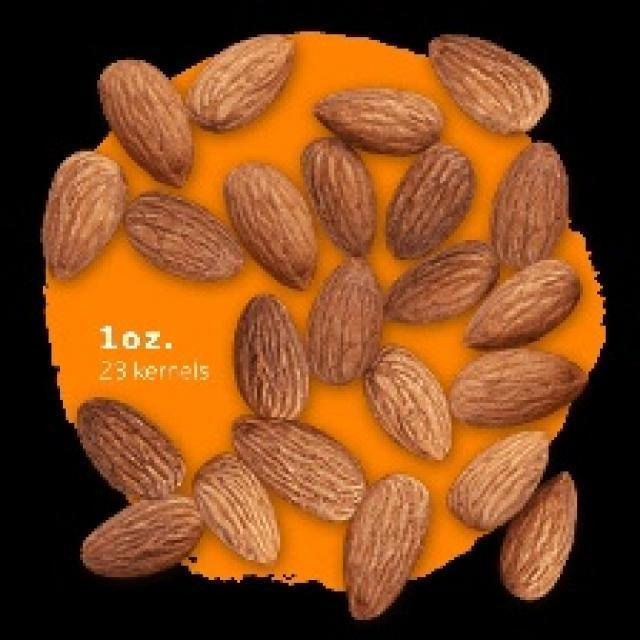almond: (228, 412, 367, 523), (342, 472, 433, 618), (97, 57, 195, 188), (73, 397, 185, 507), (430, 32, 550, 133), (489, 140, 574, 282), (445, 347, 585, 433), (227, 162, 318, 293), (447, 425, 552, 535), (462, 258, 580, 355), (120, 190, 245, 280), (305, 253, 387, 390), (183, 32, 295, 132), (45, 150, 127, 283), (378, 240, 500, 328), (380, 147, 475, 260), (362, 349, 455, 464), (500, 470, 580, 603), (195, 452, 285, 568), (232, 294, 312, 424), (80, 500, 202, 580), (304, 133, 379, 255), (318, 89, 445, 149)
